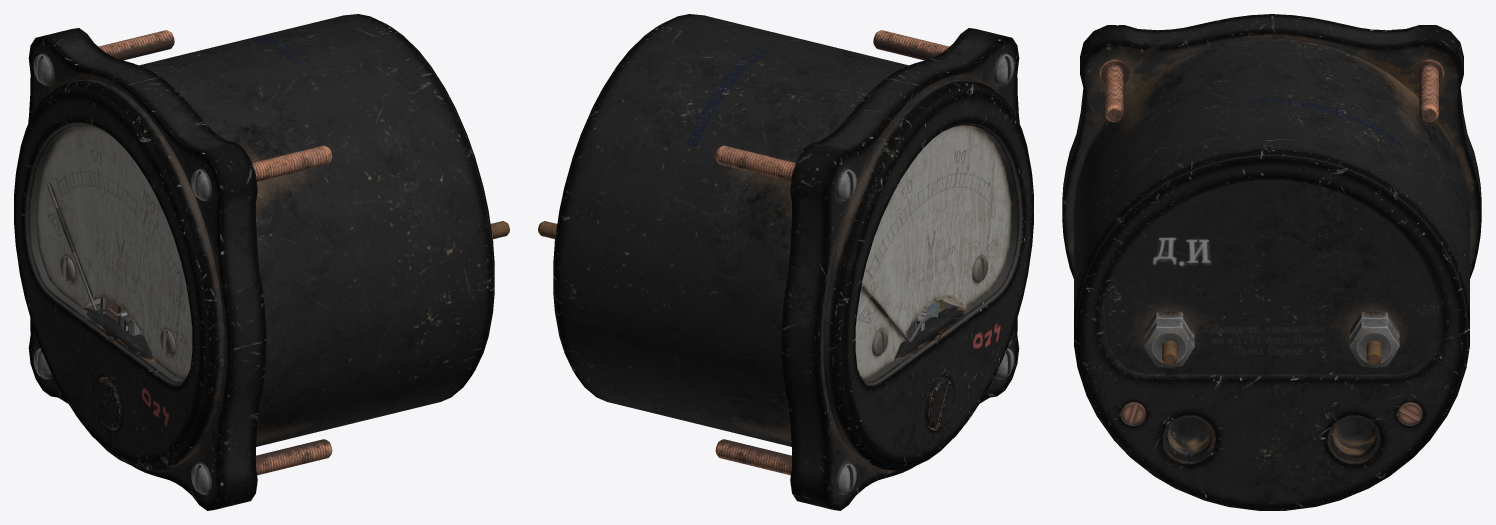
Rendered from old_rusty_voltmeter.glb.
3 renders of one model, left to right at view 1: azimuth 30°, elevation 25°; view 2: azimuth 150°, elevation 25°; view 3: azimuth 270°, elevation 25°, orthographic.
Visible parts, largest first — view 1: Mainframe_LP, Screen_LP, Bar1_LP, Nut1_LP, Front_LP, Nut2_LP, Dial_LP; view 2: Mainframe_LP, Screen_LP, Bar1_LP, Nut1_LP, Front_LP, Nut2_LP; view 3: Mainframe_LP, Bolt_LP, Bar1_LP, Back_LP, Bar2_LP.
Part boxes in pixels (left/top/right/bottom): Mainframe_LP: left=14, top=14, right=494, bottom=510; Screen_LP: left=36, top=125, right=192, bottom=379; Bar1_LP: left=98, top=30, right=332, bottom=475; Nut1_LP: left=33, top=53, right=211, bottom=494; Front_LP: left=93, top=378, right=122, bottom=429; Nut2_LP: left=60, top=256, right=175, bottom=356; Dial_LP: left=47, top=183, right=121, bottom=316; Mainframe_LP: left=553, top=14, right=1033, bottom=510; Screen_LP: left=855, top=125, right=1011, bottom=379; Bar1_LP: left=715, top=30, right=949, bottom=475; Nut1_LP: left=836, top=53, right=1014, bottom=494; Front_LP: left=925, top=378, right=954, bottom=429; Nut2_LP: left=872, top=256, right=987, bottom=356; Mainframe_LP: left=1062, top=14, right=1481, bottom=510; Bolt_LP: left=1144, top=311, right=1399, bottom=367; Bar1_LP: left=1099, top=59, right=1444, bottom=122; Back_LP: left=1121, top=402, right=1422, bottom=424; Bar2_LP: left=1162, top=340, right=1381, bottom=364.
Size of what is drawn, in the model's own units: 4.07 by 4.16 by 4.23.
16 materials, 16 textured.
